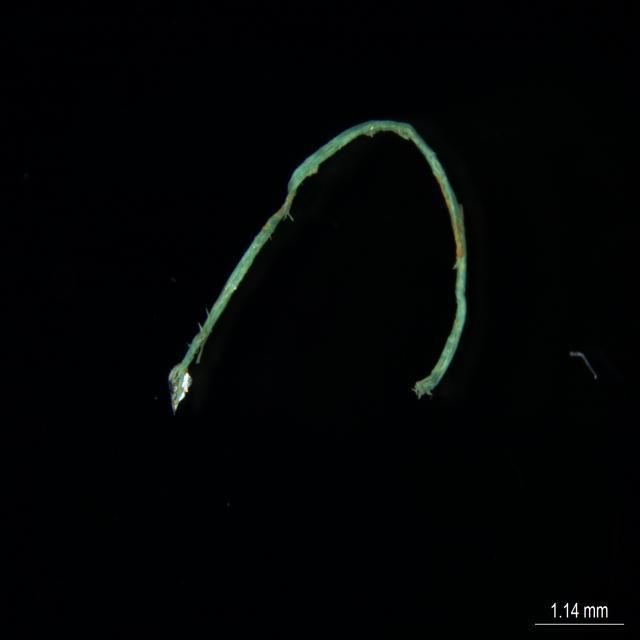fibers: (152, 114, 476, 414)
